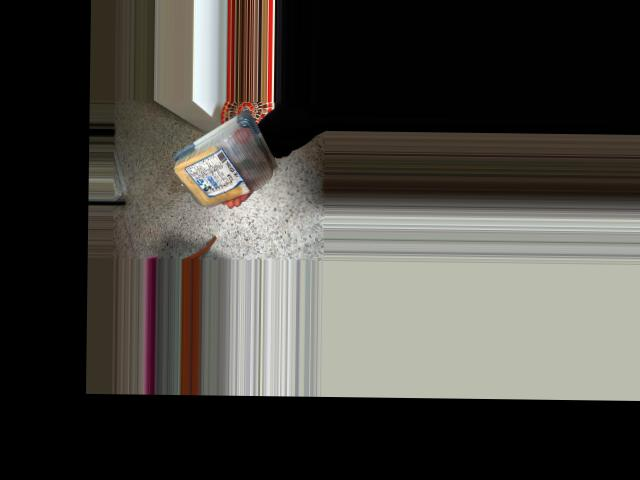cheese: (166, 116, 276, 208)
